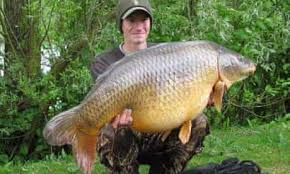carp: (41, 39, 259, 174)
